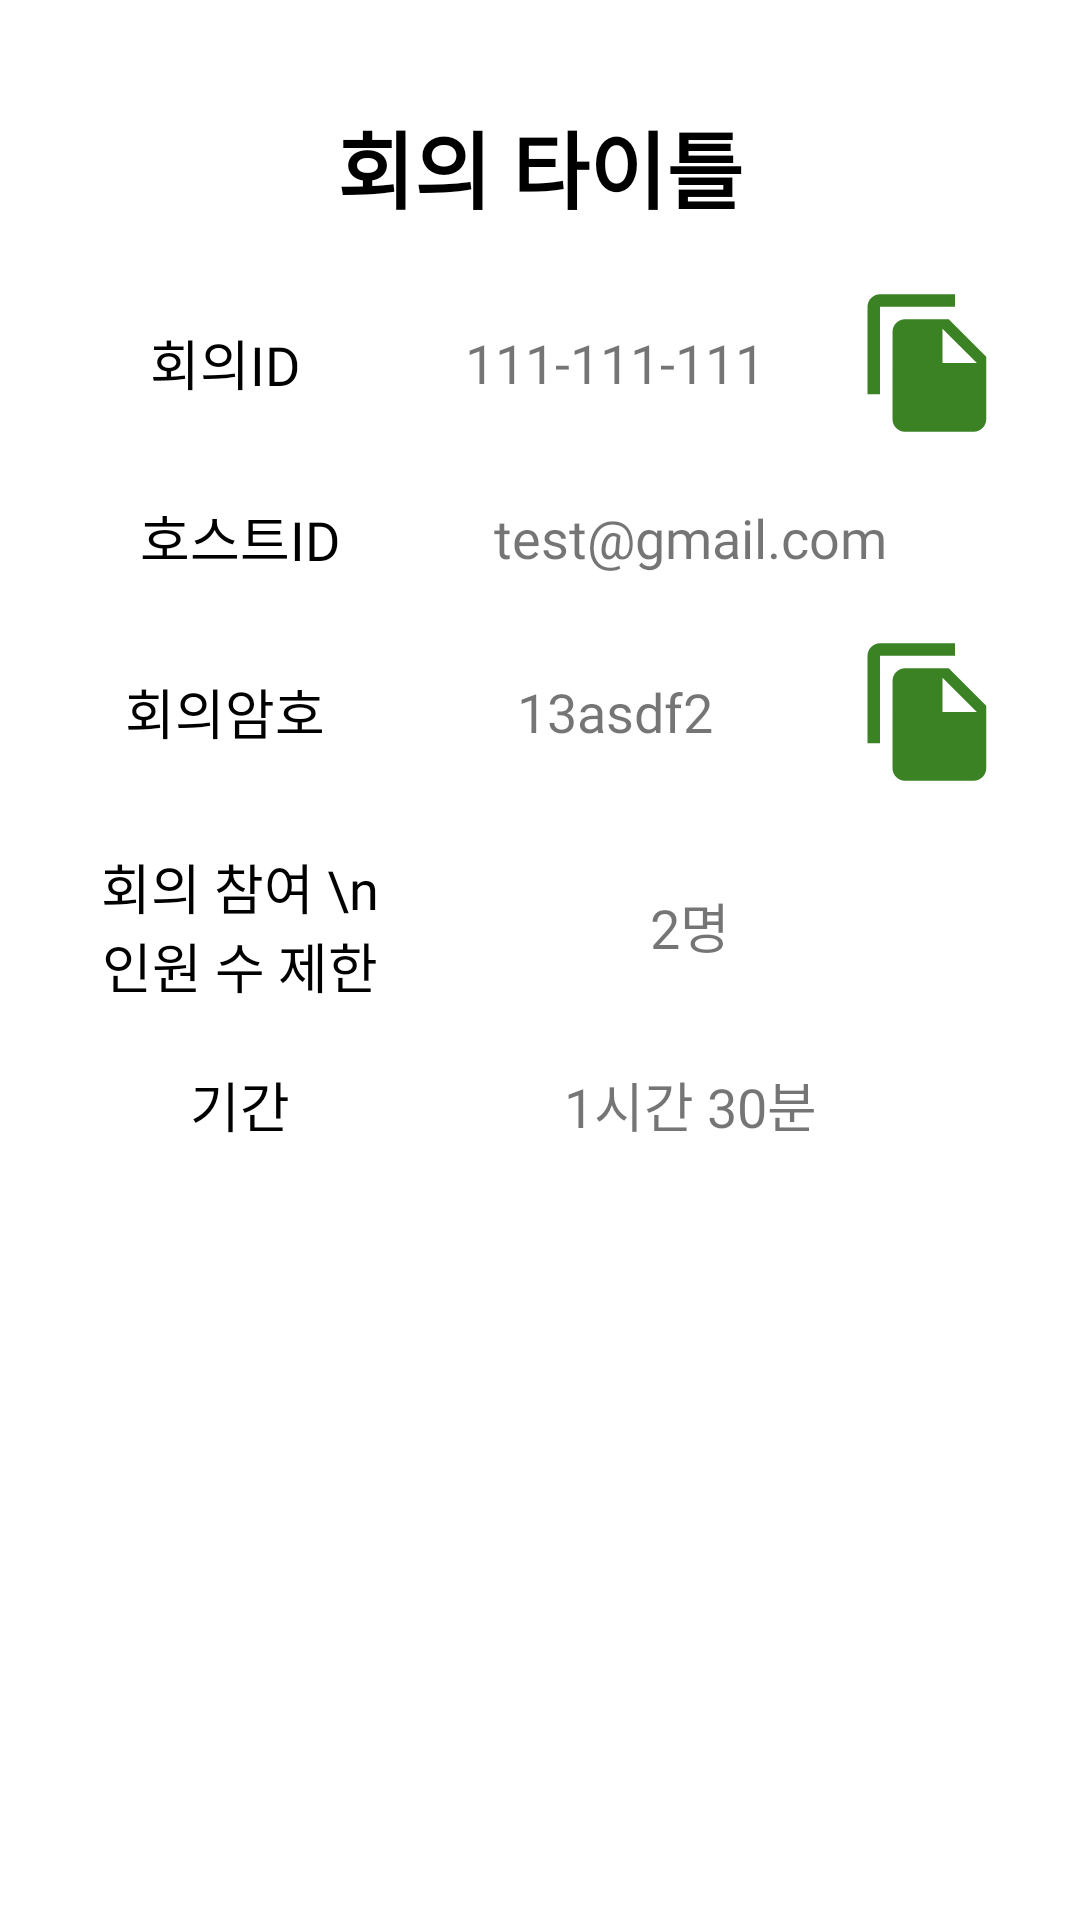

Icons on this 1080*1920 Android screen, each with its box as Rect(x1, y1, x2, y2):
file: Rect(867, 294, 987, 432), Rect(867, 643, 987, 781)
